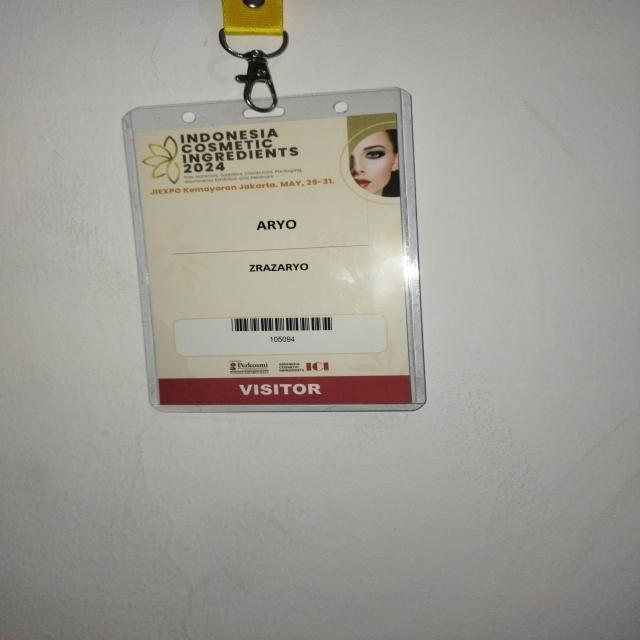ID_card: (120, 86, 427, 412)
